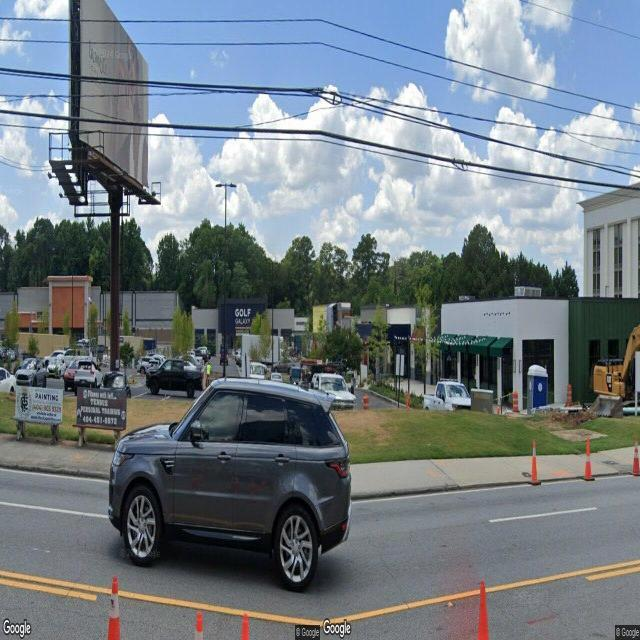seating: (72, 388, 128, 443), (14, 387, 64, 443)
